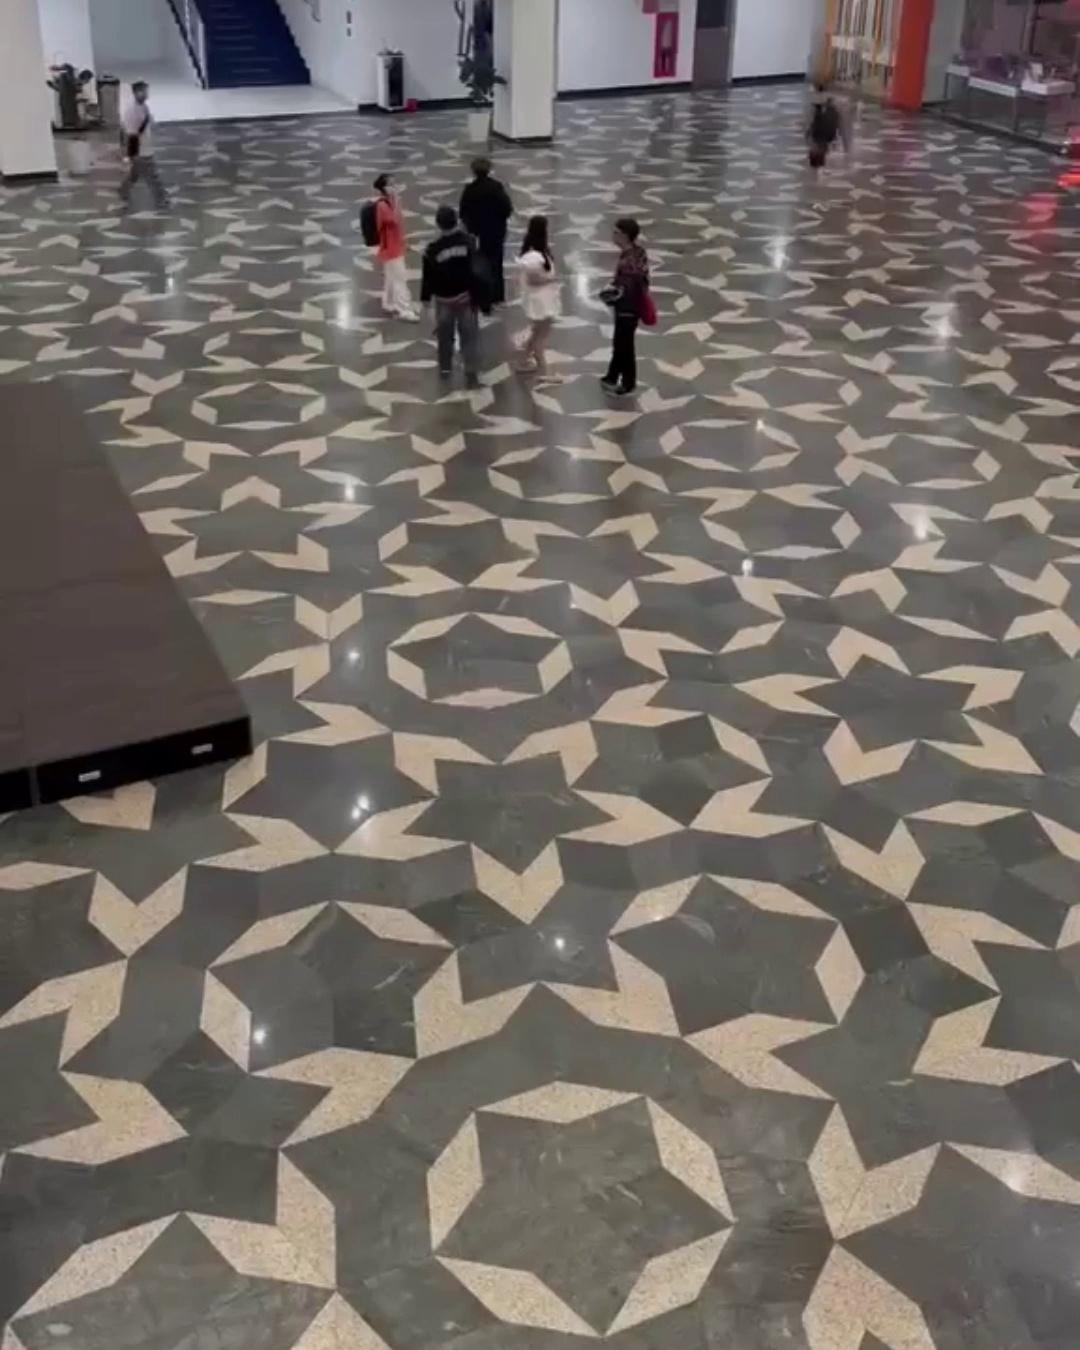your_class: (90, 45, 190, 227), (420, 193, 500, 386), (347, 163, 434, 339), (505, 208, 574, 391), (600, 218, 666, 409), (792, 73, 876, 219), (463, 114, 512, 322)
